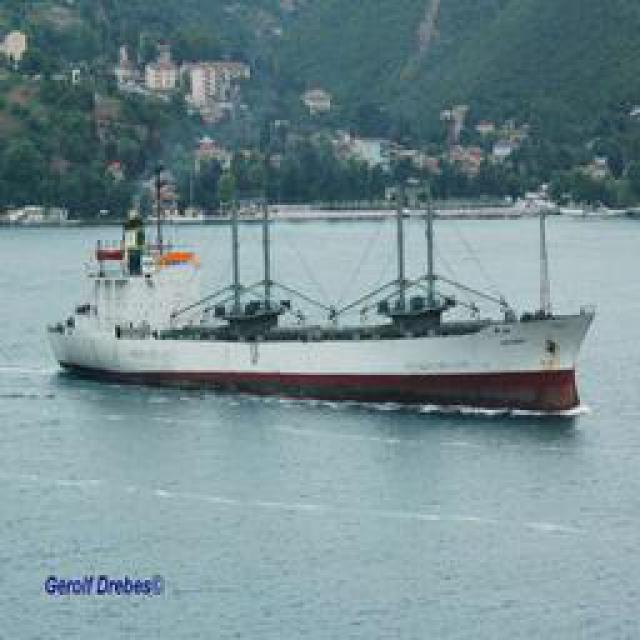Ship: (42, 128, 595, 403)
